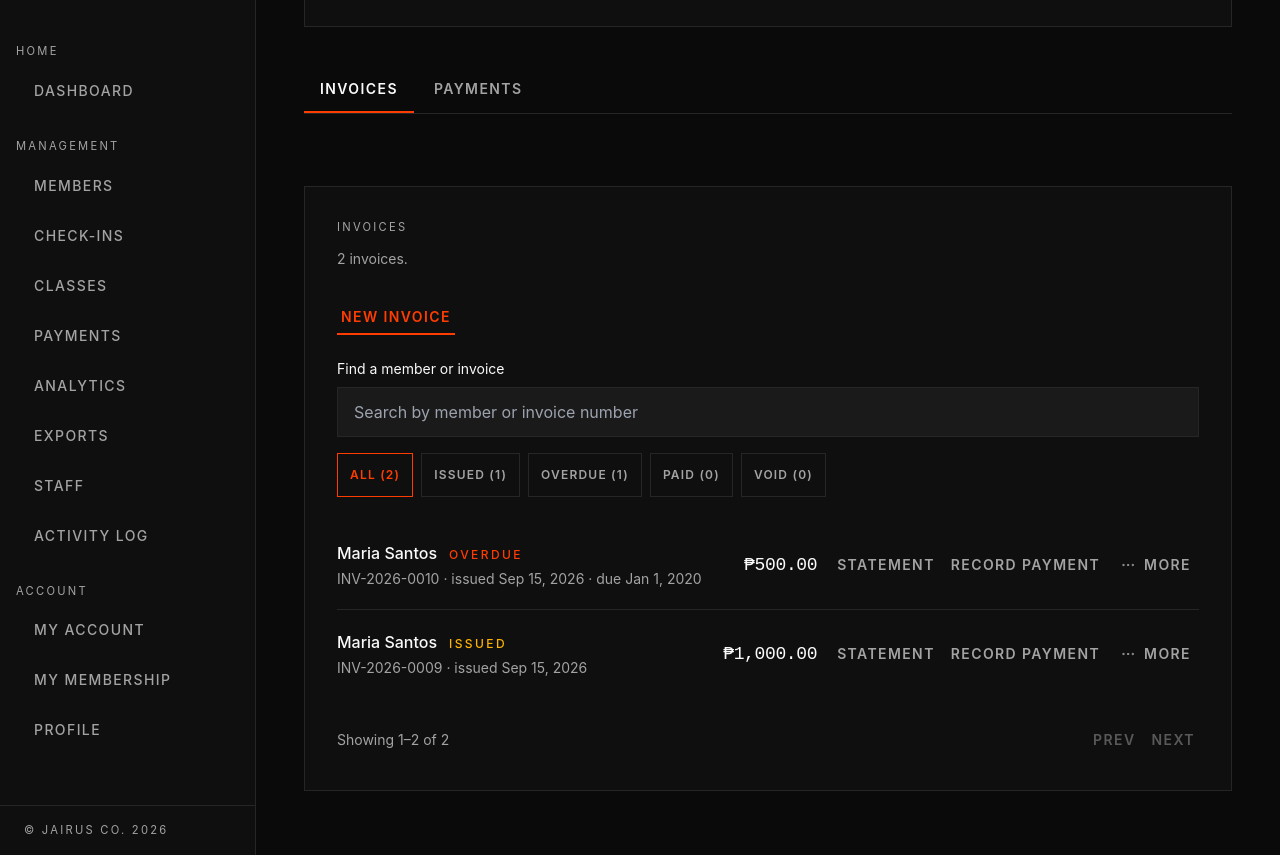
Scenario: PaymentsPage › filters invoices by status chips with counts
The image size is (1280, 855).
(page scrolled)
Expected: the button with aria-label "Filter: All" is shown, top-left (337, 453), bottom-right (413, 497)
Expected: the button "Issued (1)" is shown, top-left (421, 453), bottom-right (520, 497)
Click the button with aria-label "Filter: Overdue" at (585, 475), box top-left (528, 453), bottom-right (642, 497)
(page scrolled)
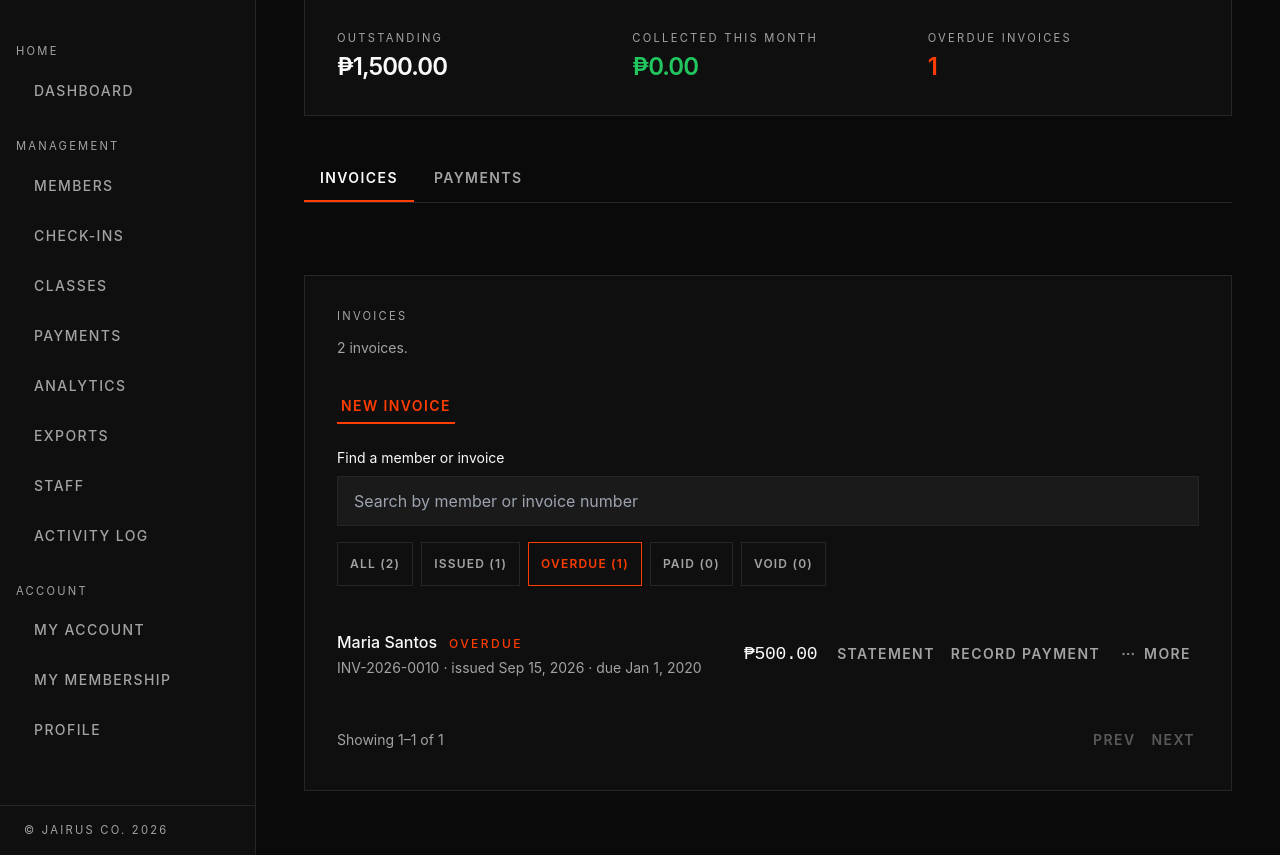
Expected: the text "₱500.00" is shown, top-left (744, 640), bottom-right (817, 668)
Now the text "Showing 1–1 of 1" is shown, box top-left (337, 730), bottom-right (444, 750)
Now the text "₱1,000.00" is gone
Click the button with aria-label "Filter: Paid" at (691, 564), box top-left (650, 542), bottom-right (733, 586)
(page scrolled)
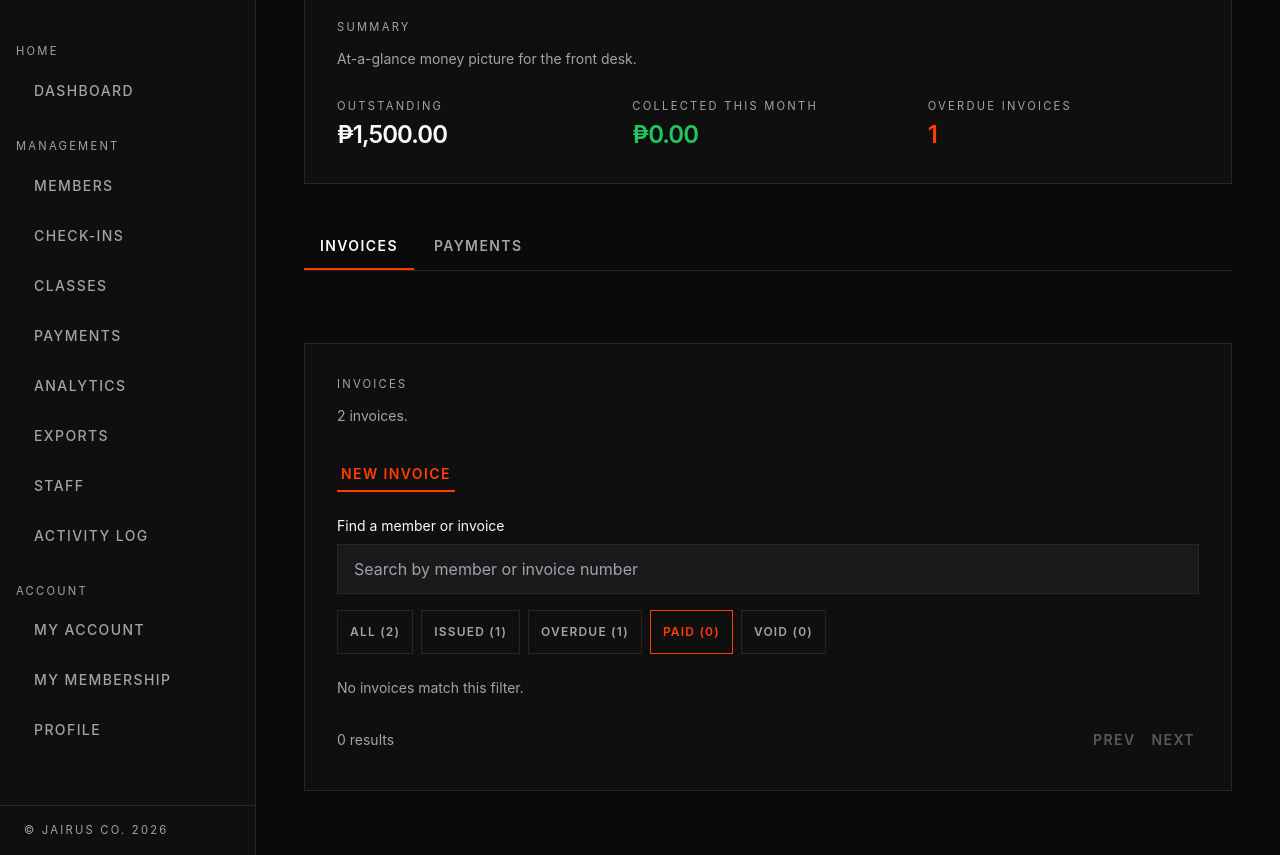
Now the text "No invoices match this filter." is shown, box top-left (337, 679), bottom-right (524, 696)
